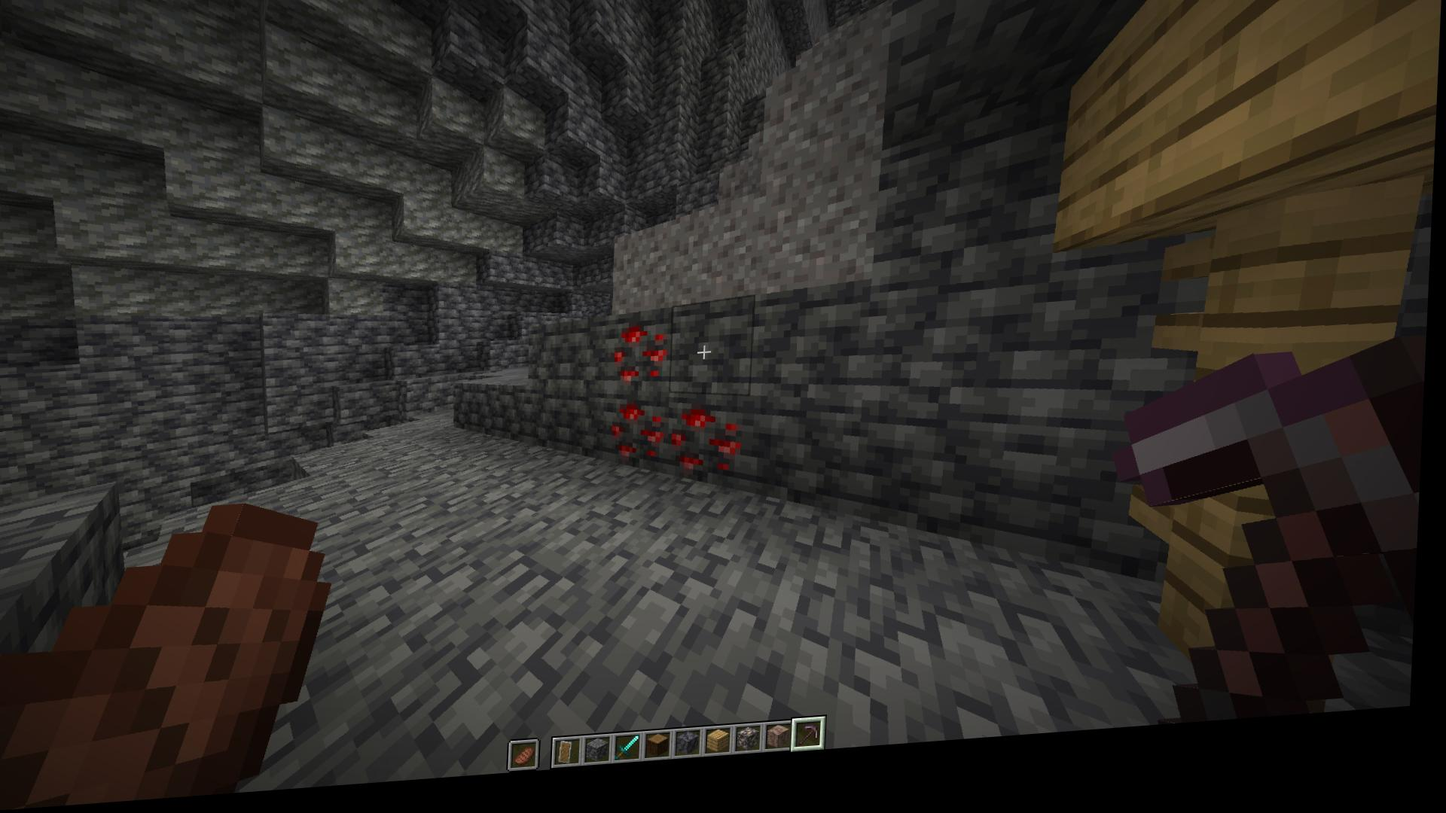redstone ore: (672, 407, 751, 500), (609, 322, 682, 405), (607, 406, 676, 487)
